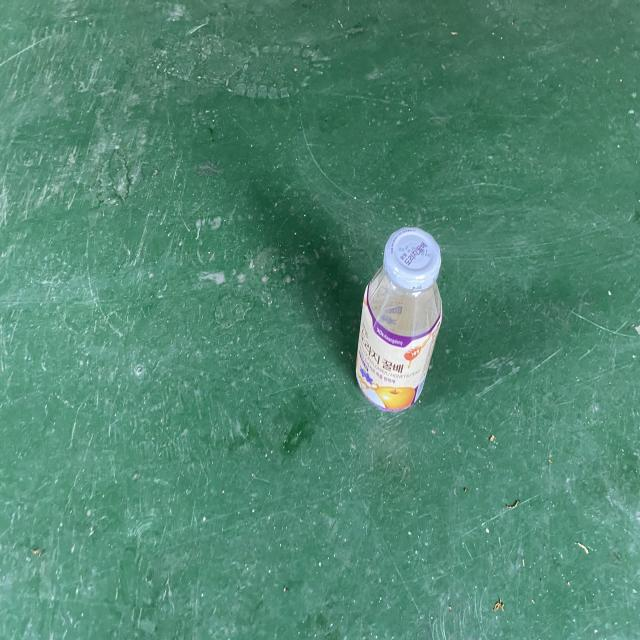glass: (356, 227, 443, 411)
